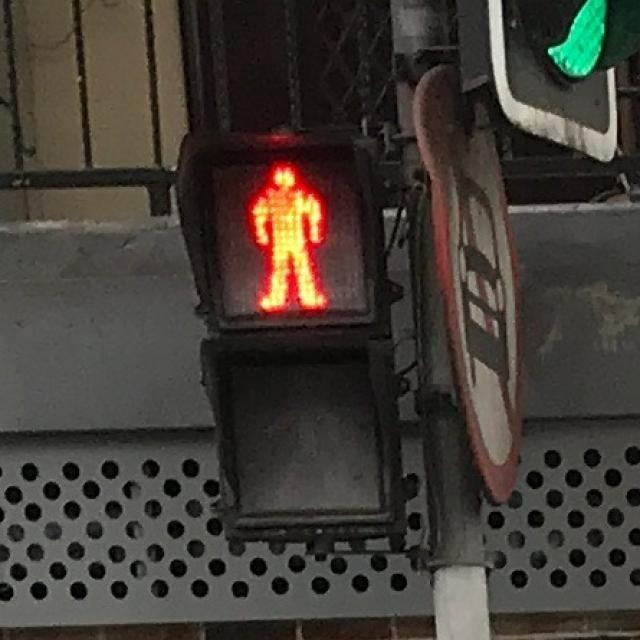red-crossing: (230, 158, 329, 314)
